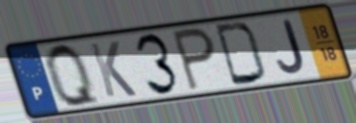3: (131, 31, 181, 97)
D: (212, 21, 270, 88)
J: (275, 18, 309, 77)
K: (87, 40, 140, 100)
P: (170, 25, 218, 94)
Q: (42, 40, 105, 110)
